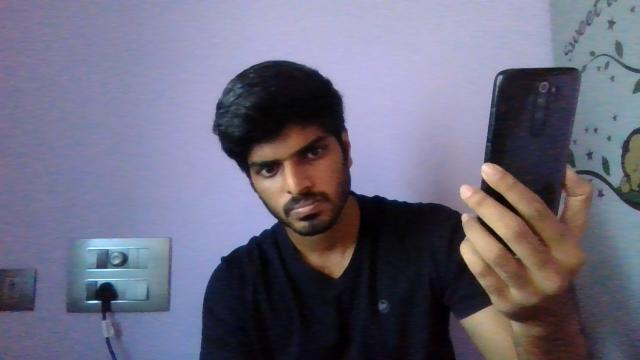PhoneUse: (473, 66, 583, 258)
SafeDriving: (296, 140, 330, 166), (252, 160, 284, 180)
